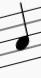note: (12, 1, 31, 67)
